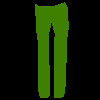jeans: (34, 2, 68, 98)
